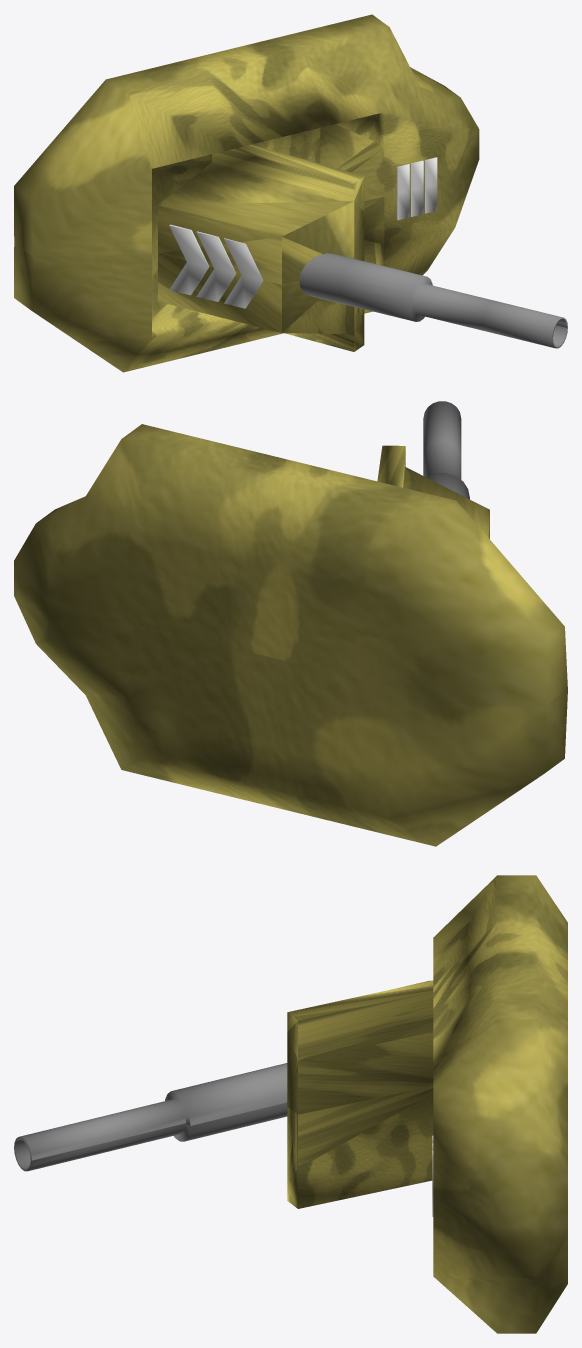
File: mortar.fbx
The picture shows the model from 3 angles, top to bottom: view 1: azimuth 30°, elevation 25°; view 2: azimuth 150°, elevation 25°; view 3: azimuth 270°, elevation 25°; orthographic projection. The views are drawn at different scales.
Visible parts, largest first — view 1: Body0, Tube01_None, Color; view 2: Body0, Tube01_None; view 3: Body0, Tube01_None.
Part boxes in pixels (<box>): Body0: <box>14,14,479,372</box>; Tube01_None: <box>299,253,567,348</box>; Color: <box>169,157,437,308</box>; Body0: <box>14,424,567,846</box>; Tube01_None: <box>423,401,469,499</box>; Body0: <box>287,875,567,1333</box>; Tube01_None: <box>14,1063,287,1171</box>.
Bounding box in the file's own units: 55.66 × 33.18 × 53.21.
2 materials, 2 textured.
